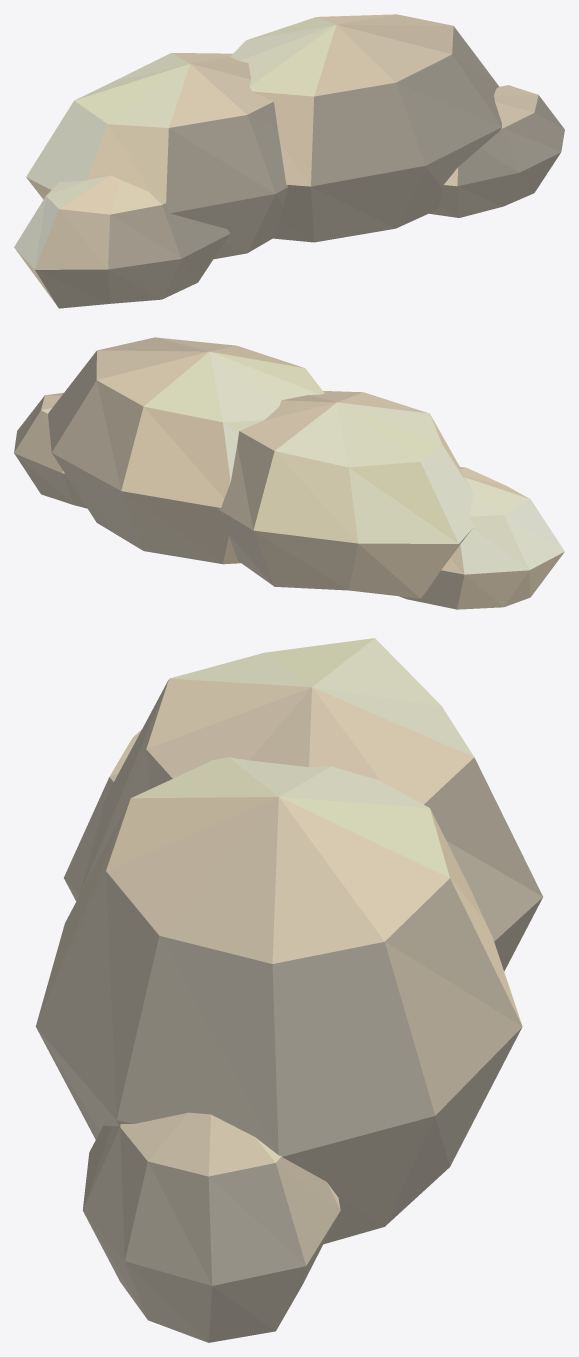
The model's file is cloud_1.glb.
3 renders of one model, top to bottom at view 1: azimuth 30°, elevation 25°; view 2: azimuth 150°, elevation 25°; view 3: azimuth 270°, elevation 25°, orthographic. The views are drawn at different scales.
Parts seen in each view (by area): view 1: Wolke 1; view 2: Wolke 1; view 3: Wolke 1.
Part boxes in pixels (x1=…): Wolke 1: x1=14, y1=14, x2=564, y2=308; Wolke 1: x1=14, y1=337, x2=564, y2=609; Wolke 1: x1=35, y1=638, x2=542, y2=1342.
Size of the model in its own units: 2.6 by 0.96 by 1.07.
